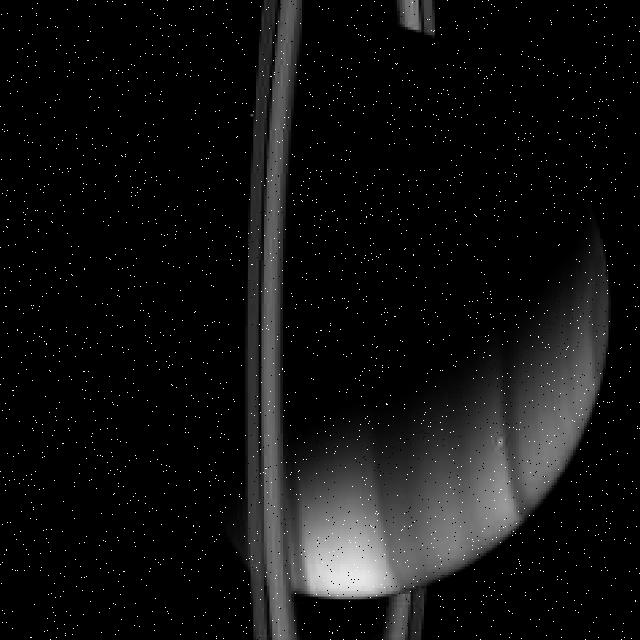Saturn: (105, 0, 608, 640)
